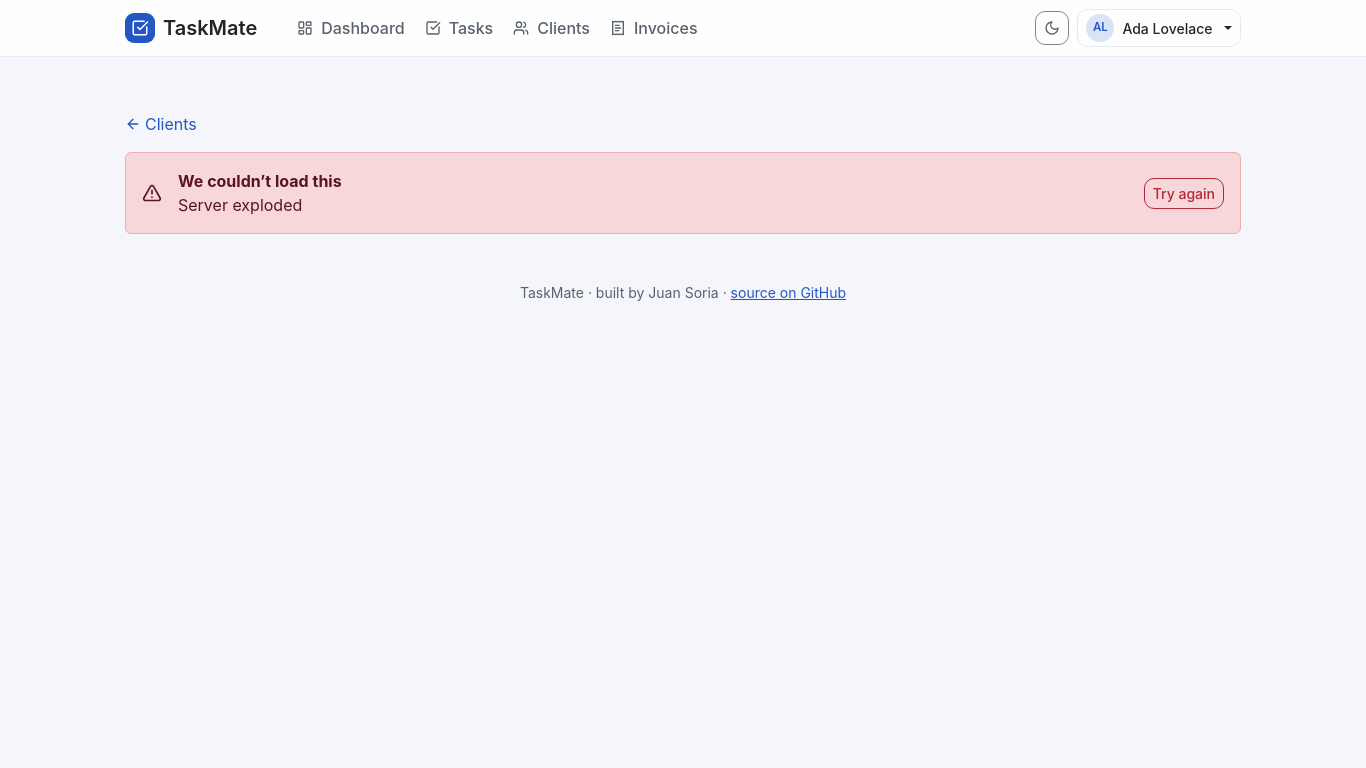
Test: Client detail page › shows a retryable error if the API is down
The width and height of the screenshot is (1366, 768).
Expected: the message "We couldn’t load this Server exploded Try again" is shown, x1=125 y1=152 x2=1241 y2=234
Click the button "Try again" at (1184, 193), box x1=1144 y1=178 x2=1224 y2=208
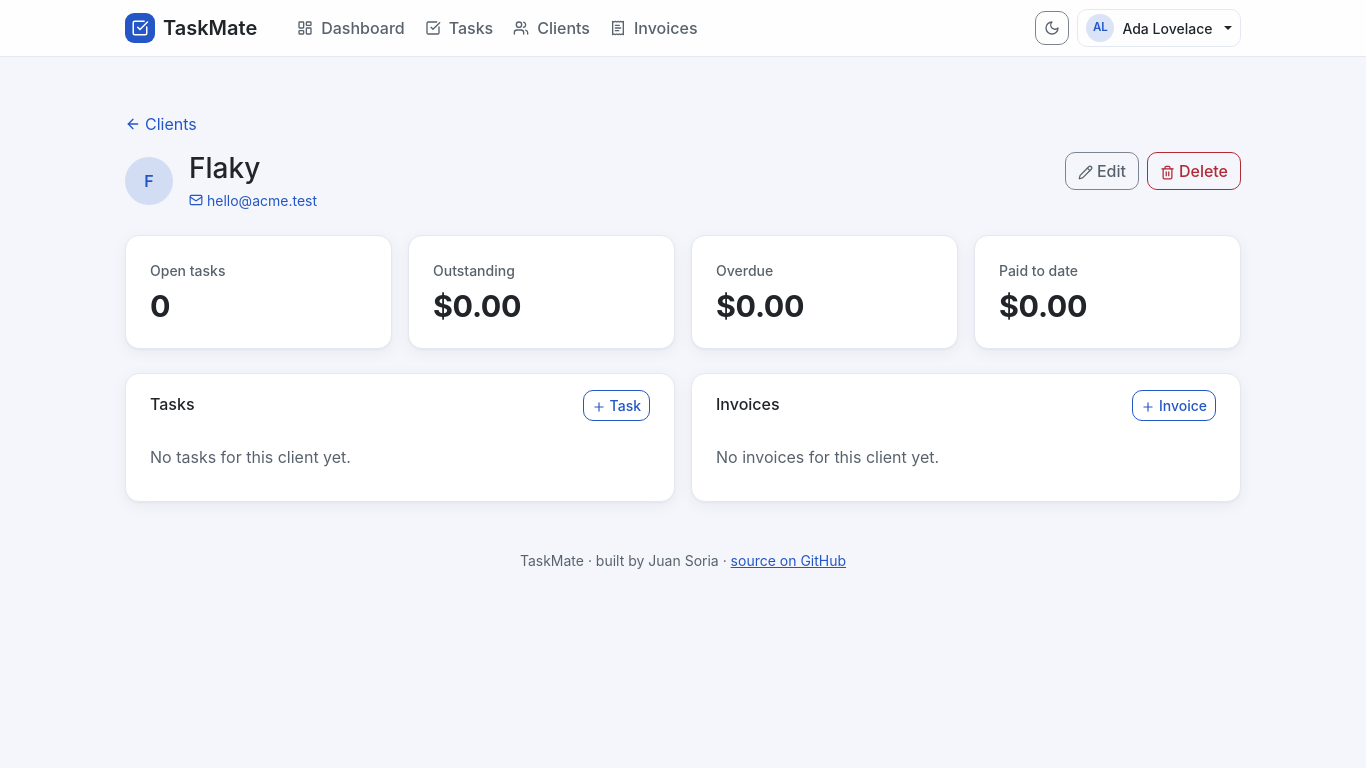
Expected: the heading "Flaky" is shown, x1=189 y1=151 x2=260 y2=185
